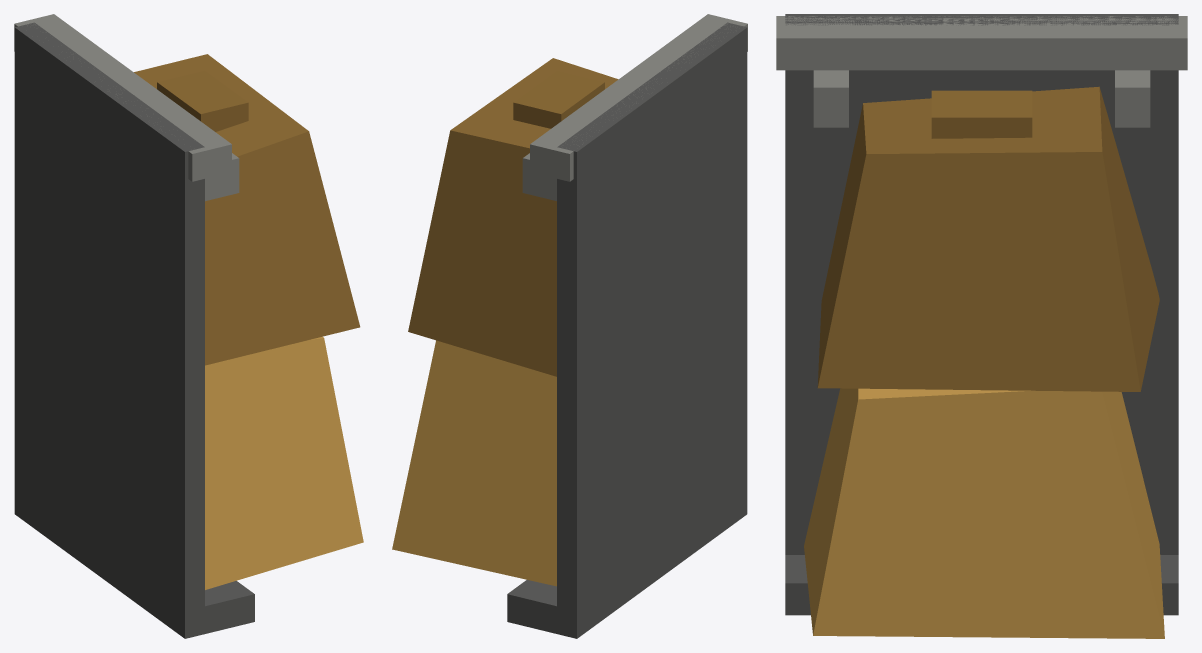
Rendered from cargo_sacks_loaded.glb.
The picture shows the model from 3 angles, left to right: view 1: azimuth 30°, elevation 25°; view 2: azimuth 150°, elevation 25°; view 3: azimuth 270°, elevation 25°; orthographic projection. The views are drawn at different scales.
Visible parts, largest first — view 1: cargo_sacks_loaded; view 2: cargo_sacks_loaded; view 3: cargo_sacks_loaded.
Part boxes in pixels (box(x1,y1,x2,y2)): cargo_sacks_loaded: box(14, 14, 363, 638); cargo_sacks_loaded: box(392, 14, 747, 638); cargo_sacks_loaded: box(776, 14, 1187, 638).
Bounding box in the file's own units: 0.2872 × 0.7 × 0.464.
